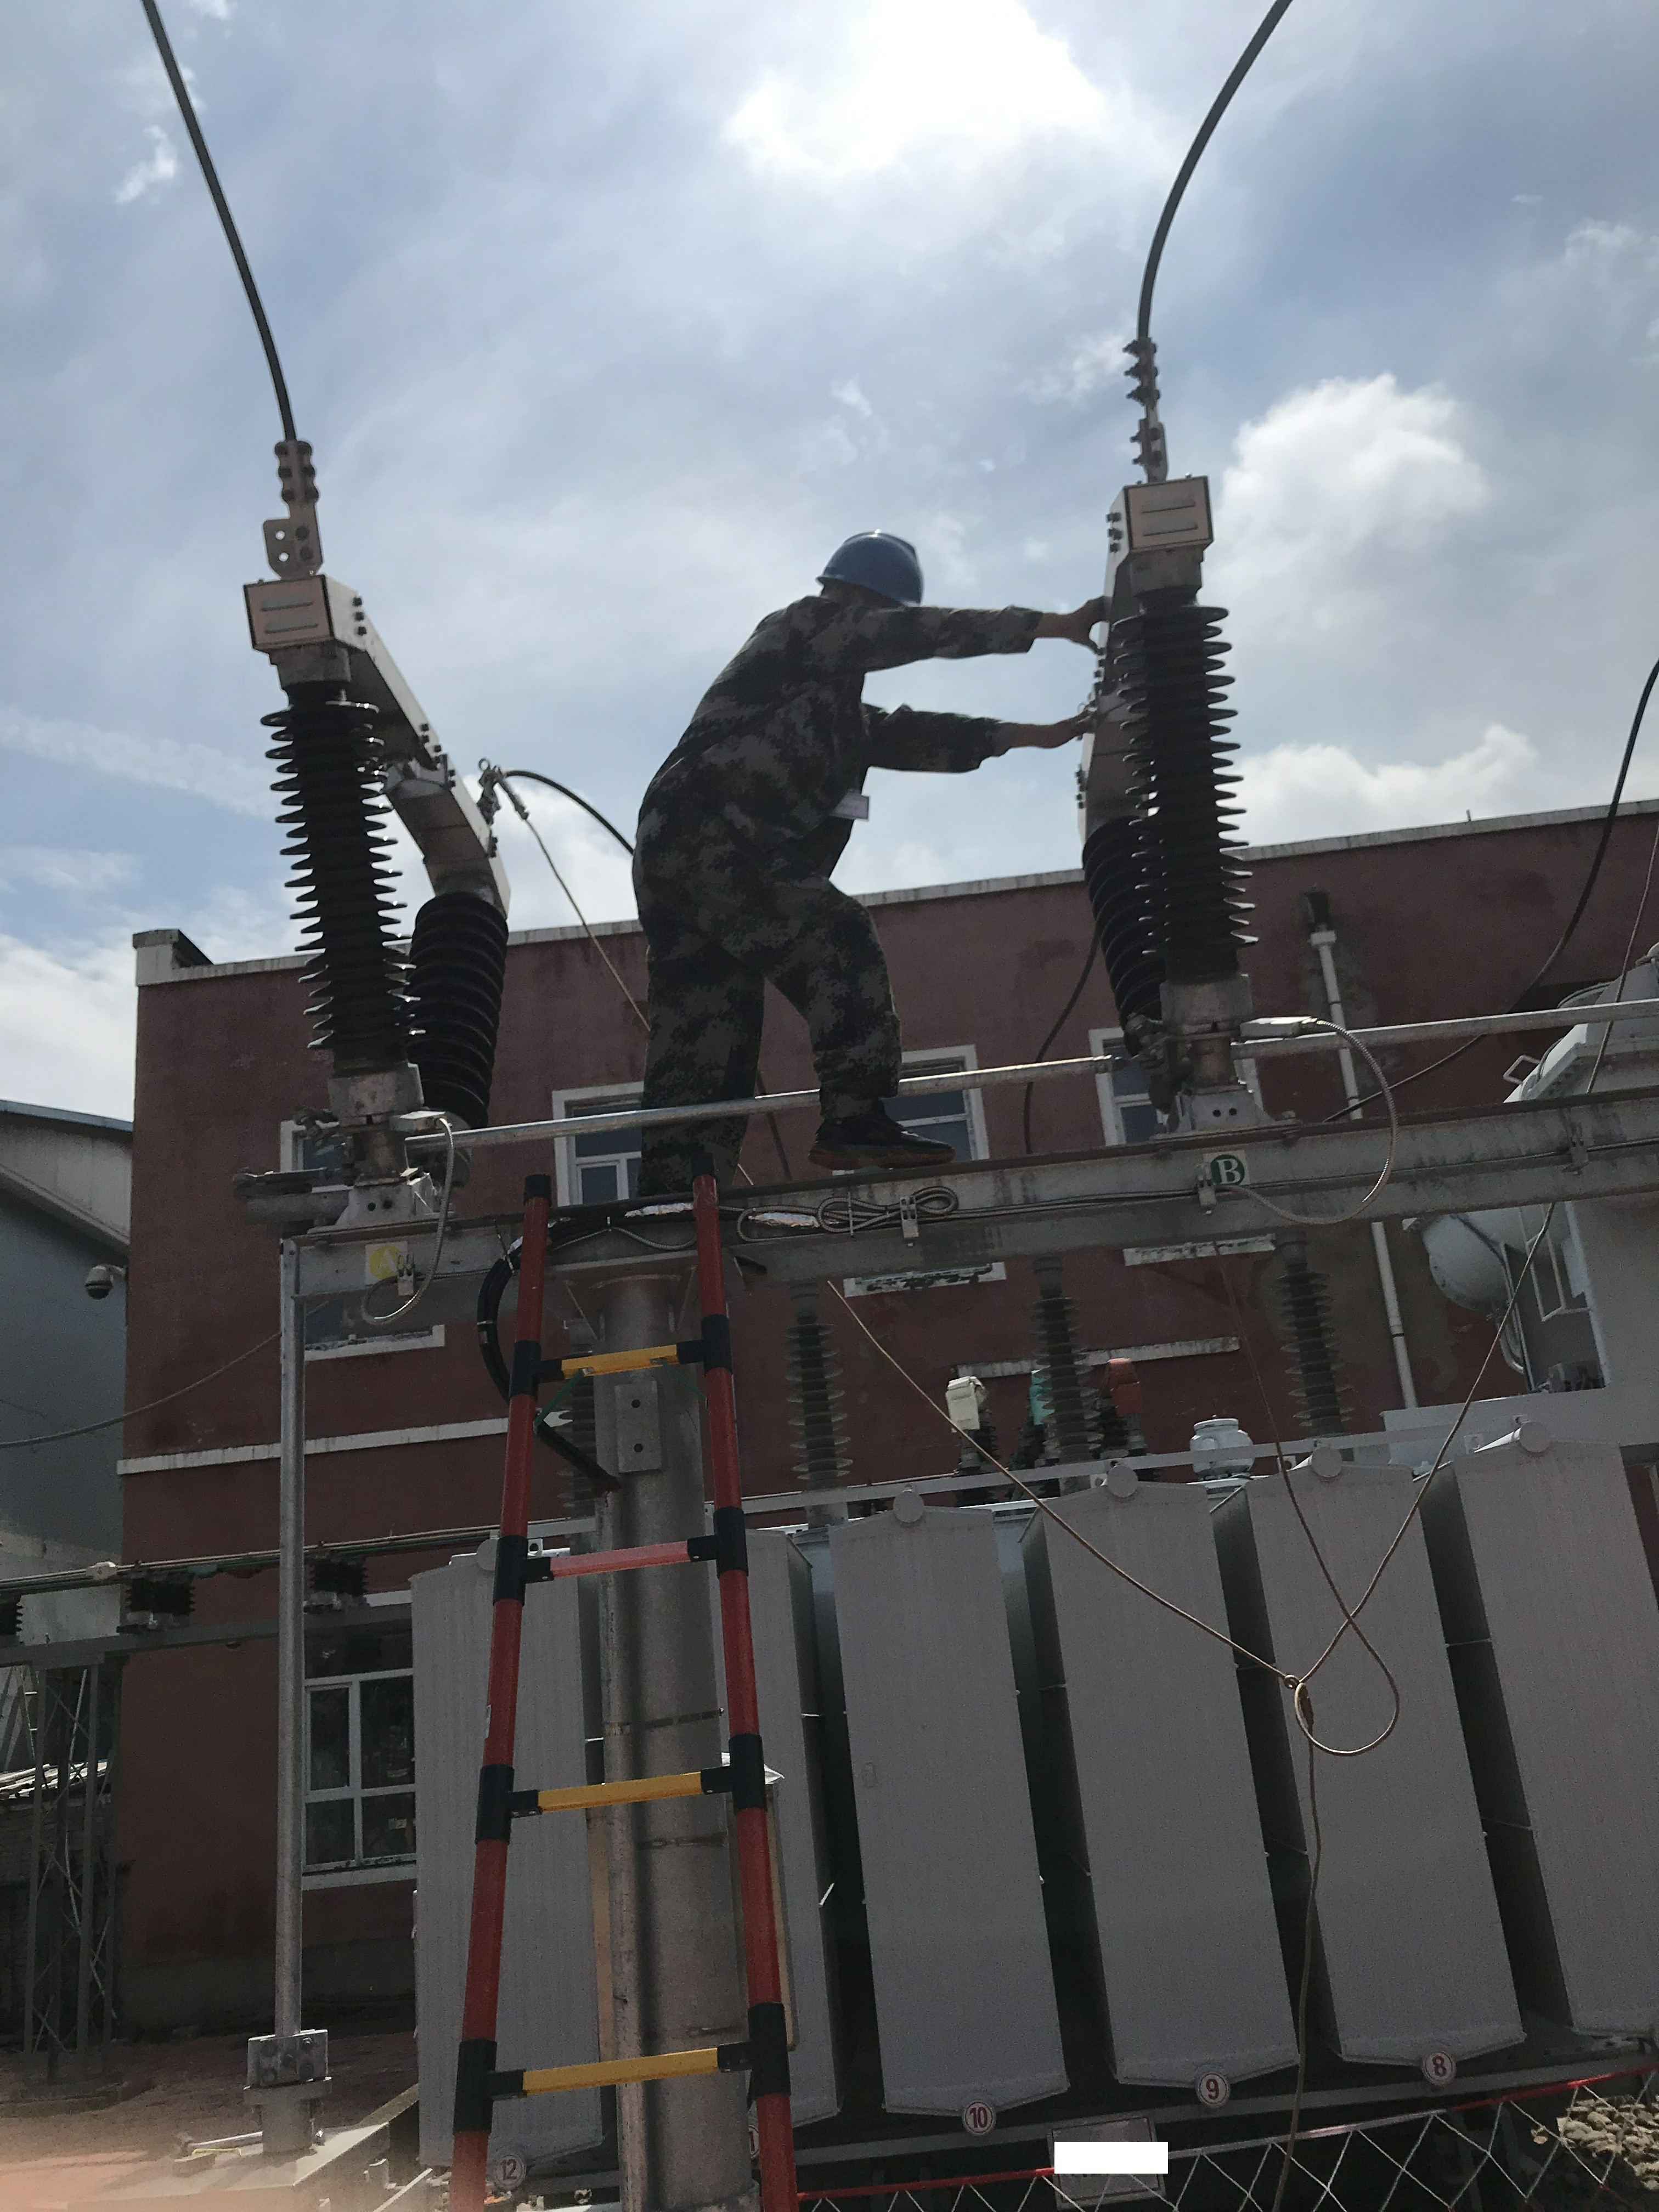hat: (807, 523, 929, 636)
